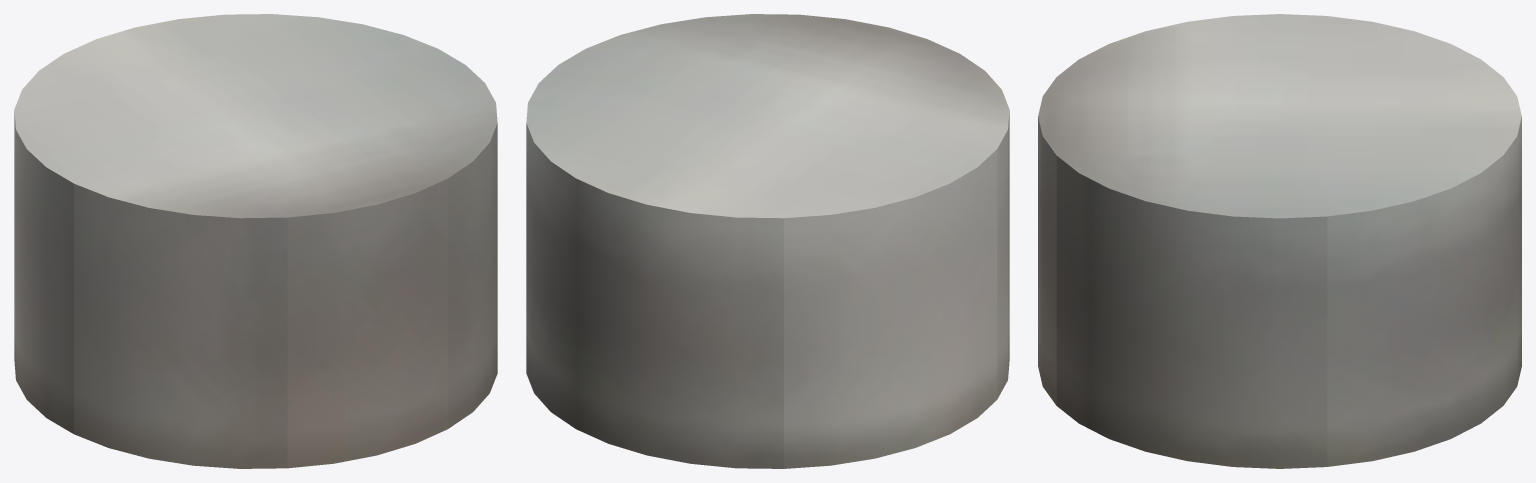
File: base_frame__pivot_post.glb
The picture shows the model from 3 angles, left to right: view 1: azimuth 30°, elevation 25°; view 2: azimuth 150°, elevation 25°; view 3: azimuth 270°, elevation 25°; orthographic projection.
Visible parts, largest first — view 1: geometry_0; view 2: geometry_0; view 3: geometry_0.
Part boxes in pixels (x1,y1,x2,y2): geometry_0: [14, 14, 497, 468]; geometry_0: [526, 14, 1009, 468]; geometry_0: [1038, 14, 1521, 468].
Size of the model in its own units: 0.007 by 0.004 by 0.007.
1 material, 1 textured.
